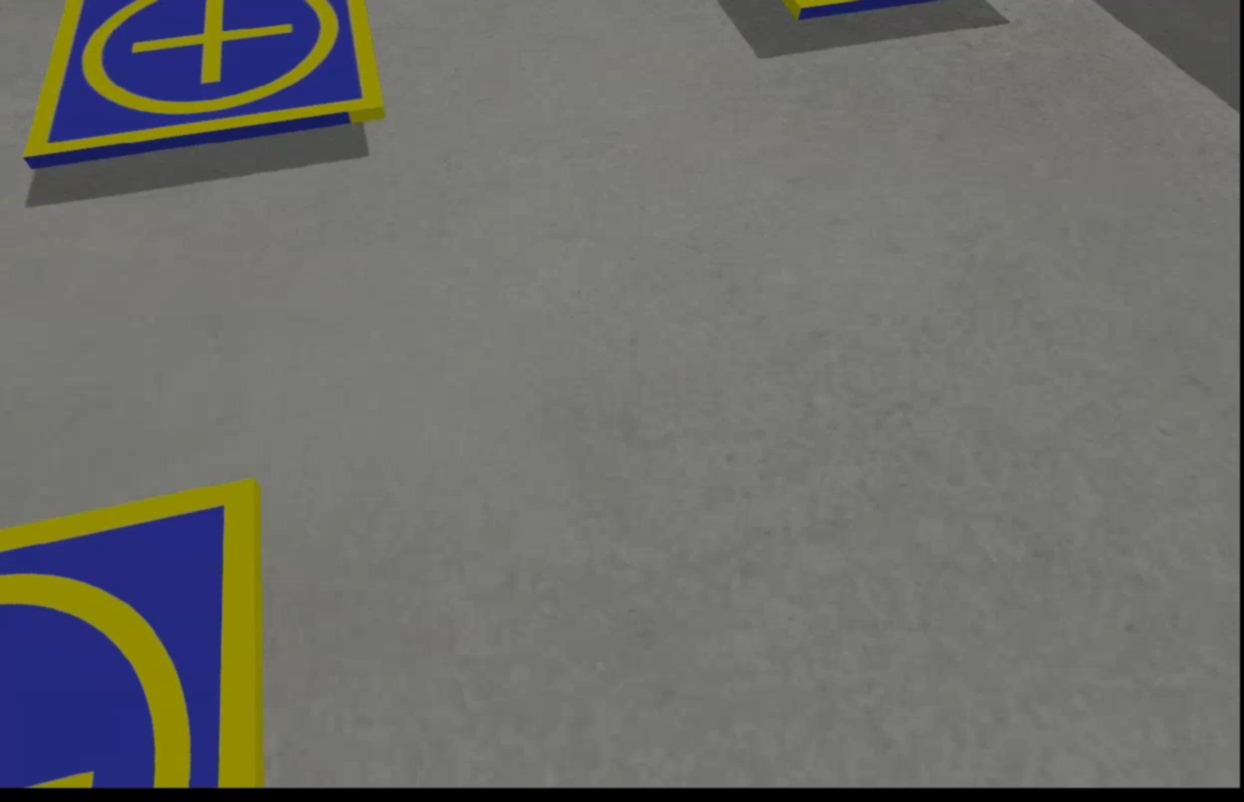small_base: (0, 481, 268, 788), (20, 1, 389, 174)
